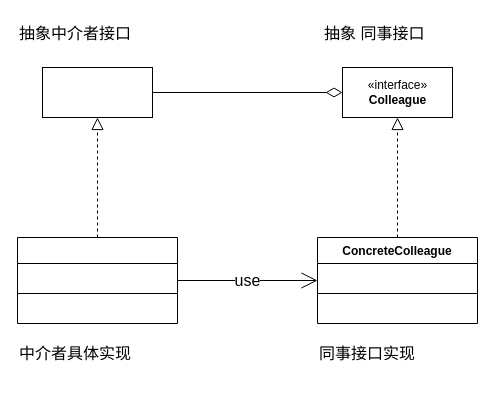
The diagram is 495 pixels wide and 394 high, and some of its shapes have lost their labels. The shapes that lost their labels are listed below. From the top down, each one's centre as x and y in pixels, then its label:
point 97,92: «interface» Mediator
point 97,280: ConcreteMediator
